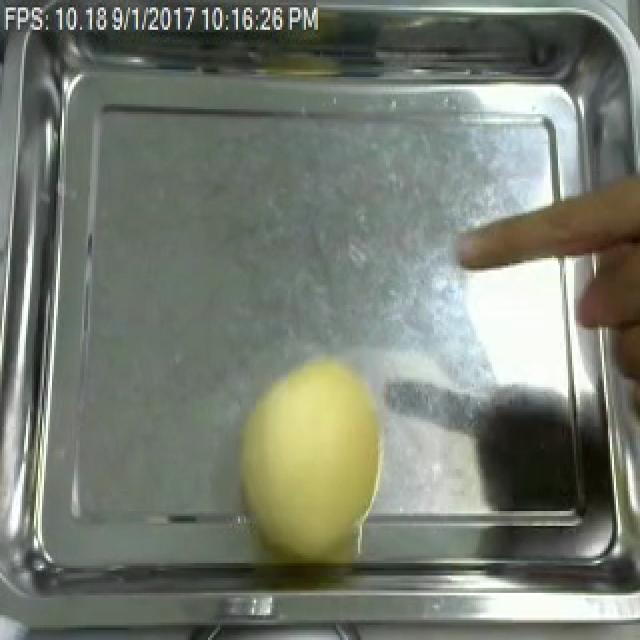Fruit: (226, 345, 396, 563), (444, 164, 640, 278)
